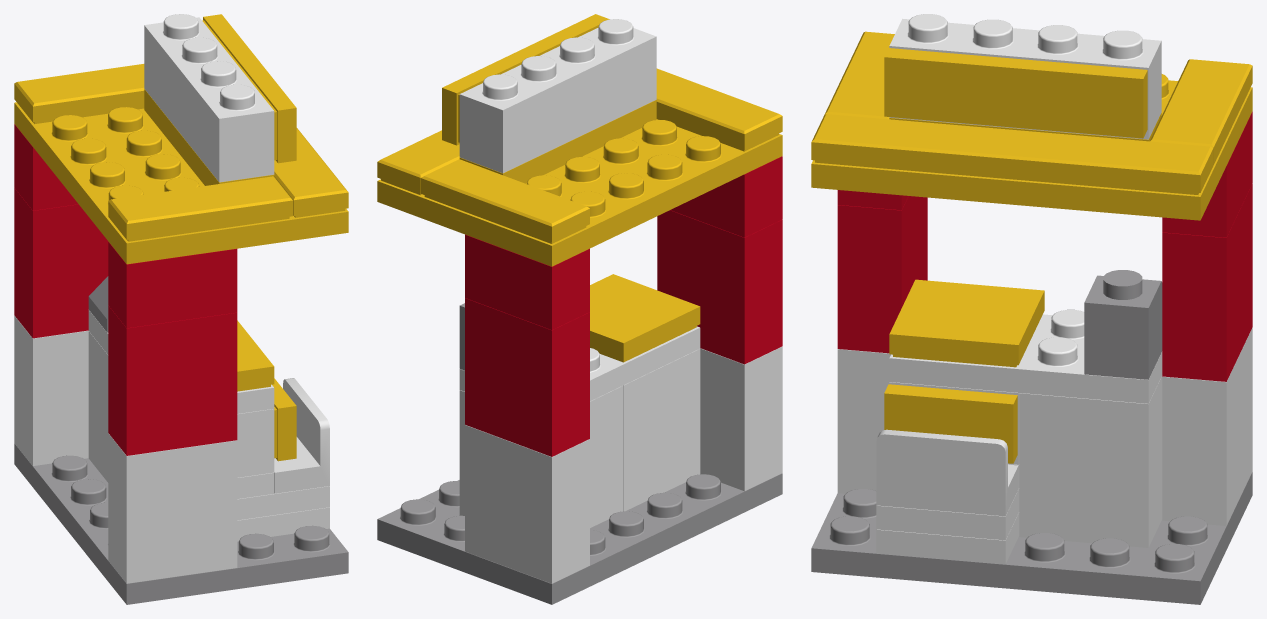
Rendered from LEGOLAND® Park_ticket.fbx.
The picture shows the model from 3 angles, left to right: view 1: azimuth 30°, elevation 25°; view 2: azimuth 150°, elevation 25°; view 3: azimuth 270°, elevation 25°; orthographic projection. The views are drawn at different scales.
Parts seen in each view (by area): view 1: part.042, part.051, part.052, part.044, part.041, part.056, part.050, part.029, part.068, part.069, part.057, part.071 (+12 smaller); view 2: part.042, part.044, part.041, part.050, part.056, part.052, part.051, part.053, part.028, part.069, part.048, part.068 (+7 smaller); view 3: part.041, part.055, part.071, part.024, part.056, part.050, part.042, part.052, part.048, part.057, part.044, part.037 (+11 smaller).
Boxes of the visible parts, bbox=[...] form: part.042: bbox=[14, 102, 348, 264]; part.051: bbox=[108, 433, 237, 583]; part.052: bbox=[108, 305, 237, 455]; part.044: bbox=[144, 14, 274, 182]; part.041: bbox=[14, 443, 348, 604]; part.056: bbox=[14, 188, 108, 338]; part.050: bbox=[14, 315, 88, 465]; part.029: bbox=[108, 242, 237, 328]; part.068: bbox=[108, 176, 292, 241]; part.069: bbox=[14, 64, 144, 123]; part.057: bbox=[274, 378, 329, 493]; part.071: bbox=[274, 128, 348, 217]; part.042: bbox=[377, 119, 782, 266]; part.044: bbox=[459, 19, 656, 173]; part.041: bbox=[377, 473, 782, 604]; part.050: bbox=[465, 425, 589, 583]; part.056: bbox=[465, 298, 589, 456]; part.052: bbox=[657, 210, 782, 364]; part.051: bbox=[700, 346, 782, 491]; part.053: bbox=[623, 349, 700, 511]; part.028: bbox=[465, 234, 589, 329]; part.069: bbox=[421, 159, 589, 243]; part.048: bbox=[590, 274, 700, 362]; part.068: bbox=[656, 68, 782, 151]; part.041: bbox=[811, 472, 1252, 604]; part.055: bbox=[1019, 377, 1161, 547]; part.071: bbox=[811, 114, 1213, 194]; part.024: bbox=[884, 48, 1147, 138]; part.056: bbox=[1162, 184, 1252, 381]; part.050: bbox=[1162, 328, 1252, 525]; part.042: bbox=[811, 74, 1252, 220]; part.052: bbox=[837, 196, 927, 353]; part.048: bbox=[889, 279, 1044, 367]; part.057: bbox=[876, 429, 1018, 516]; part.044: bbox=[889, 14, 1161, 139]; part.037: bbox=[889, 309, 1162, 403].
Bounding box in the file's own units: 4072 × 6898 × 5326.
